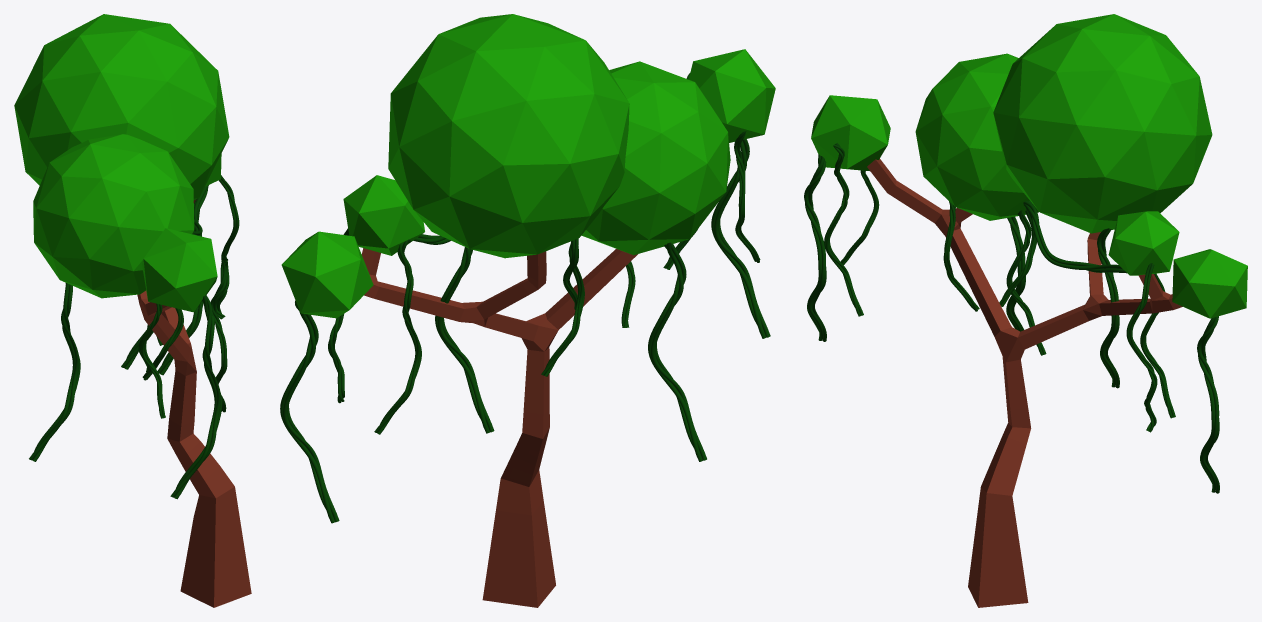
Rendered from Tree3.fbx.
3 views of the same model, side by side, from view 1: azimuth 30°, elevation 25°; view 2: azimuth 150°, elevation 25°; view 3: azimuth 270°, elevation 25° (orthographic). The views are drawn at different scales.
Visible parts, largest first — view 1: Tree3; view 2: Tree3; view 3: Tree3.
Boxes of the visible parts, x1,y1,x2,y2 form: Tree3: (14,14,251,607); Tree3: (280,14,775,607); Tree3: (804,14,1247,607).
Size of the model in its own units: 230 by 433 by 318.
